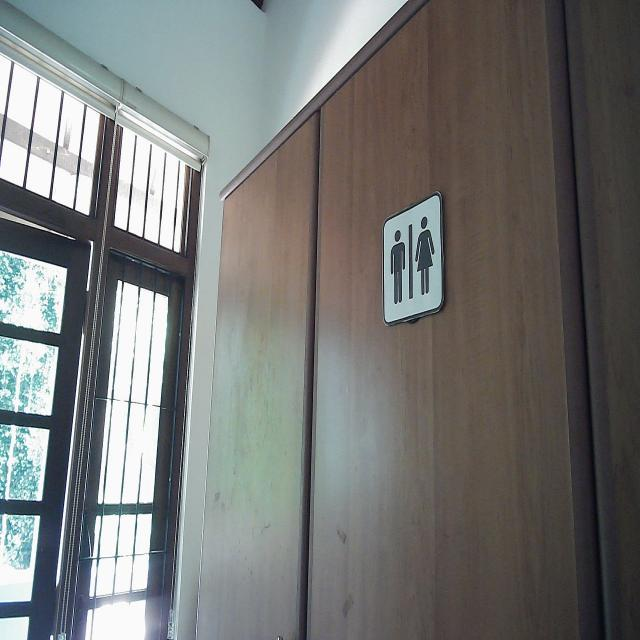restroom: (380, 186, 446, 330)
